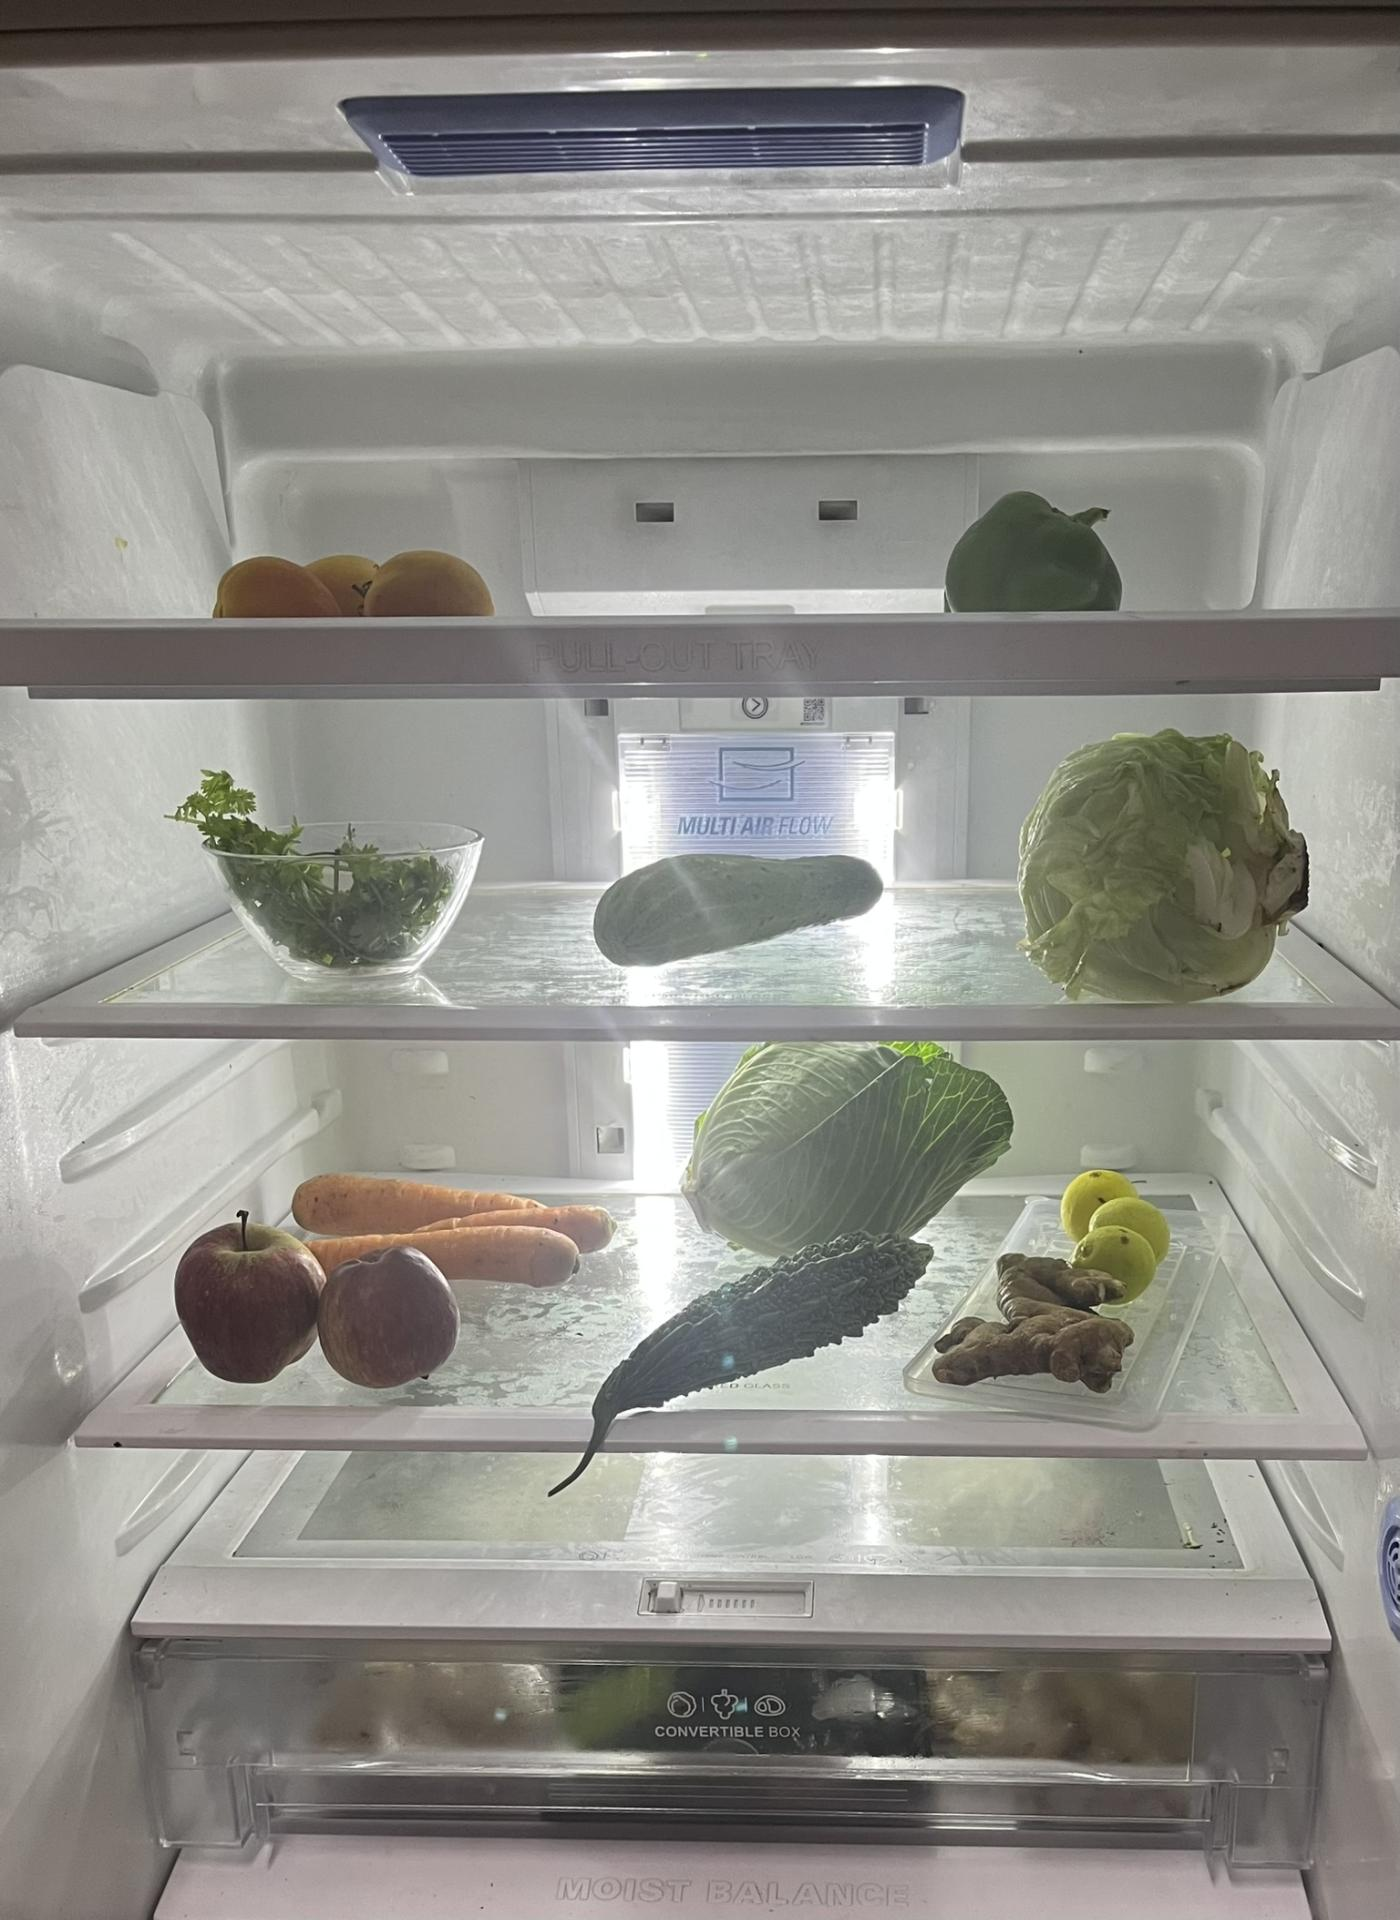apple: (188, 1206, 459, 1389)
cabbage: (695, 1033, 1021, 1272)
capsicum: (945, 480, 1117, 605)
carrots: (265, 1169, 620, 1272)
coriander: (203, 775, 459, 967)
cucumber: (589, 836, 893, 964)
ginger: (923, 1258, 1124, 1403)
lemon: (1072, 1155, 1170, 1291)
lettuce: (1032, 733, 1309, 996)
tomato: (221, 550, 474, 619)
